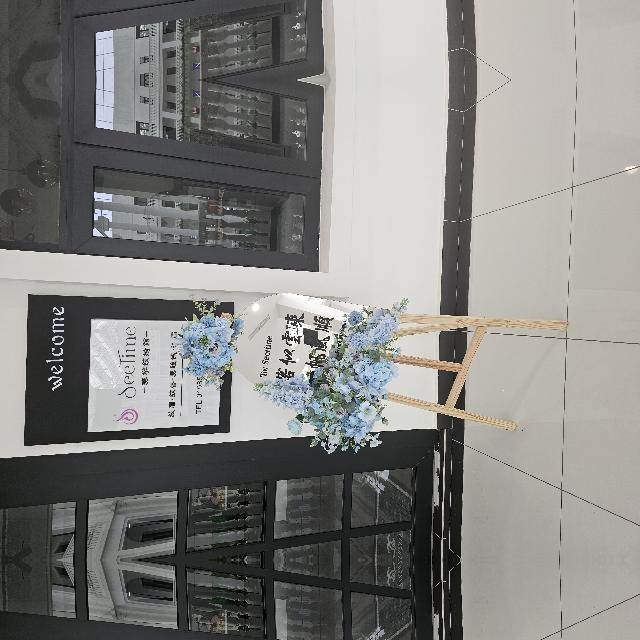obstacle: (127, 256, 271, 640), (127, 472, 271, 640)
